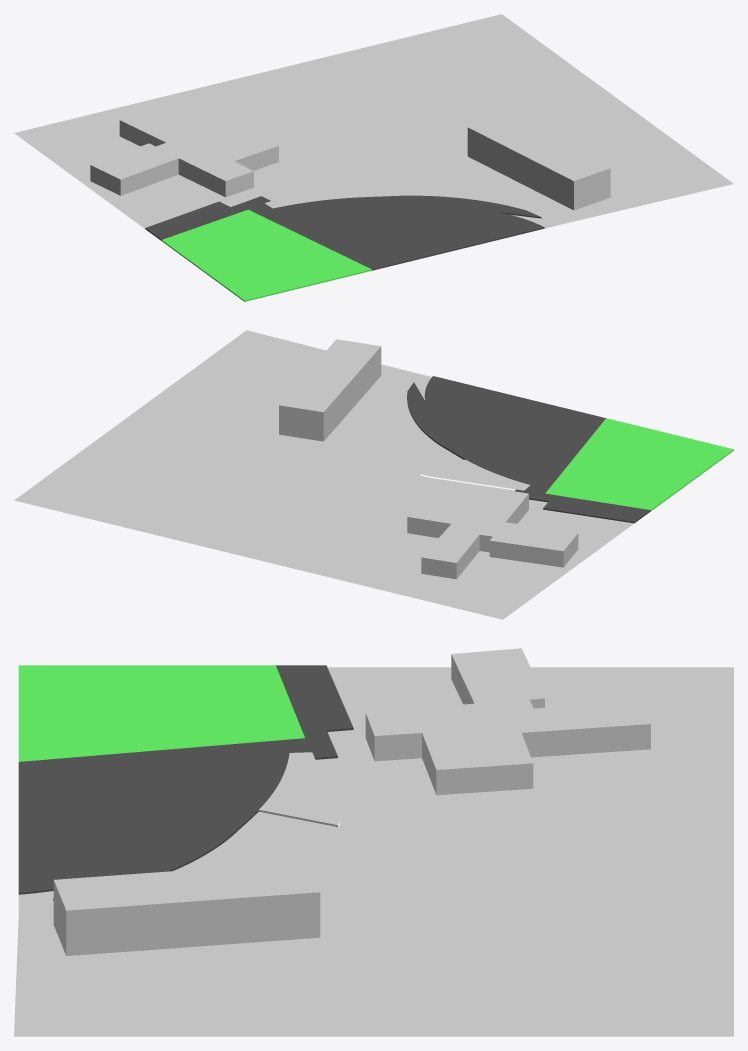
The model's file is terrain.fbx.
The picture shows the model from 3 angles, top to bottom: view 1: azimuth 30°, elevation 25°; view 2: azimuth 150°, elevation 25°; view 3: azimuth 270°, elevation 25°; orthographic projection. The views are drawn at different scales.
Visible parts, largest first — view 1: Model; view 2: Model; view 3: Model.
Part boxes in pixels (x1,y1,x2,y2): Model: [14, 14, 733, 301]; Model: [14, 330, 733, 619]; Model: [14, 648, 733, 1036].
Size of the model in its own units: 5525 by 317 by 4552.
